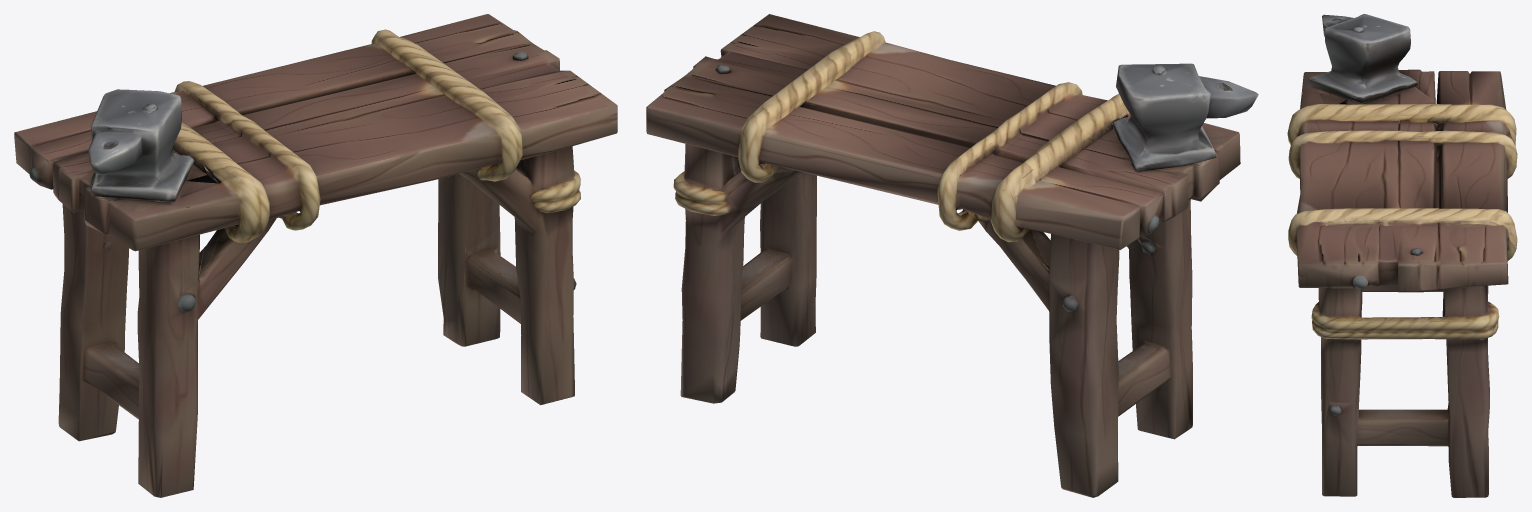
The model's file is WorkBench.fbx.
3 renders of one model, left to right at view 1: azimuth 30°, elevation 25°; view 2: azimuth 150°, elevation 25°; view 3: azimuth 270°, elevation 25°, orthographic. The views are drawn at different scales.
Visible parts, largest first — view 1: Mesh_0; view 2: Mesh_0; view 3: Mesh_0.
Part boxes in pixels (x1,y1,x2,y2): Mesh_0: [14, 14, 617, 497]; Mesh_0: [646, 14, 1258, 497]; Mesh_0: [1287, 14, 1517, 497].
Bounding box in the file's own units: 181 × 125 × 84.45.
1 material, 1 textured.
